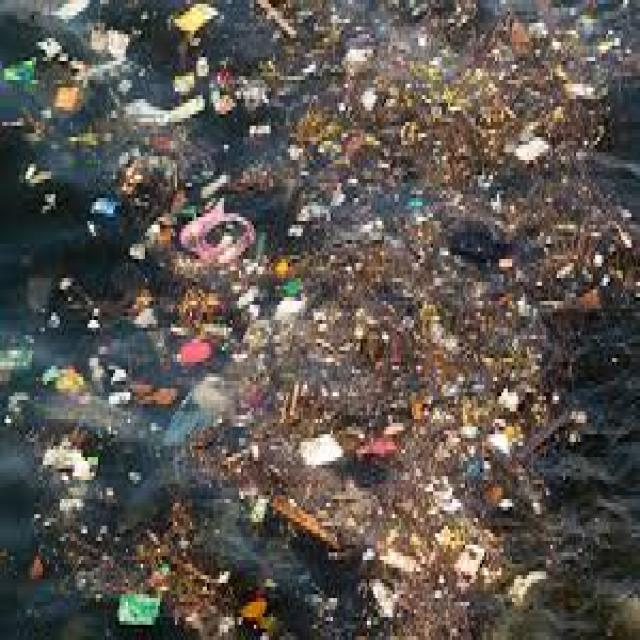plastic watse: (9, 0, 637, 636)
